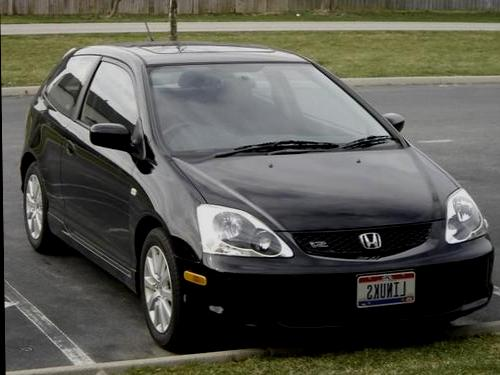License_Plate: (348, 264, 422, 314)
